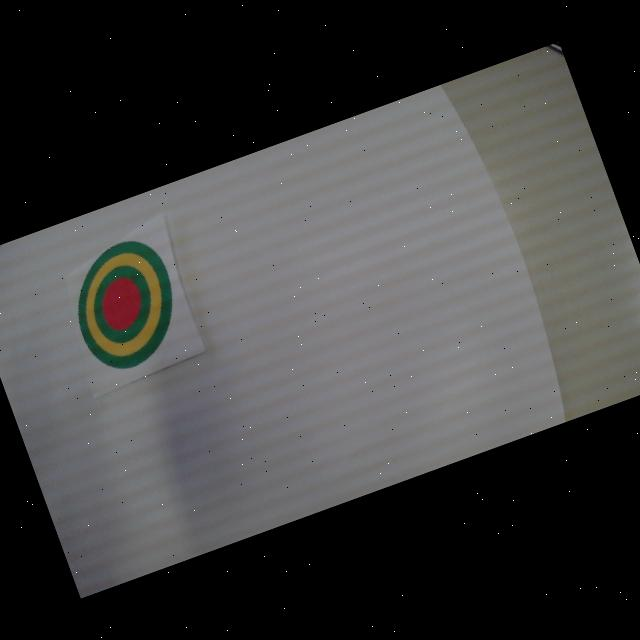COGNITIVE: (58, 230, 196, 380)
